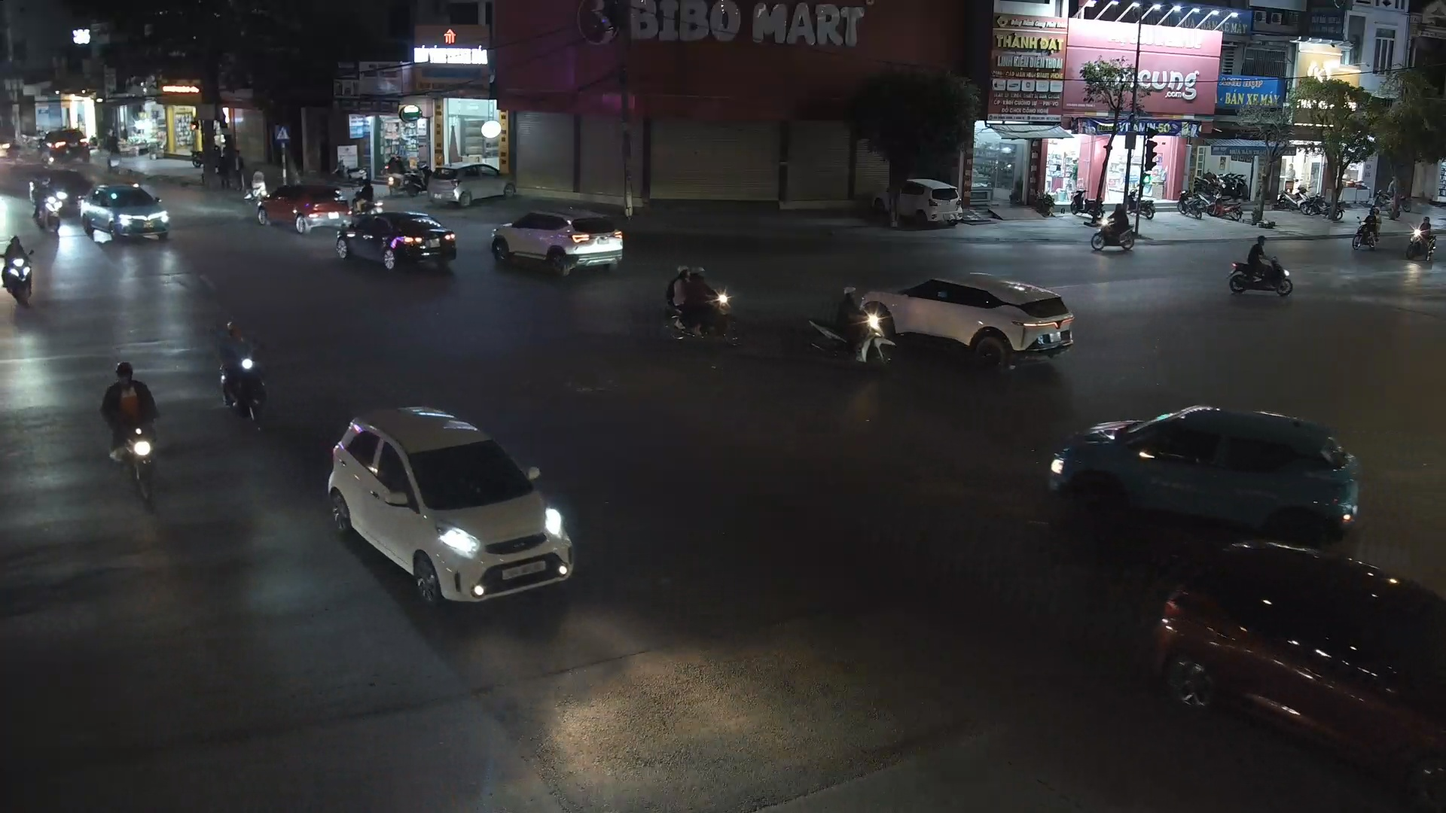car: (1153, 541, 1445, 810), (323, 405, 578, 609), (1043, 404, 1363, 543), (852, 274, 1076, 369), (490, 209, 626, 276), (336, 206, 459, 273), (81, 182, 172, 247)
motorbike: (101, 359, 163, 504), (803, 283, 895, 369), (662, 263, 741, 347), (212, 318, 268, 424), (1226, 235, 1294, 299), (0, 233, 38, 308), (1087, 201, 1139, 254), (31, 177, 60, 234)
